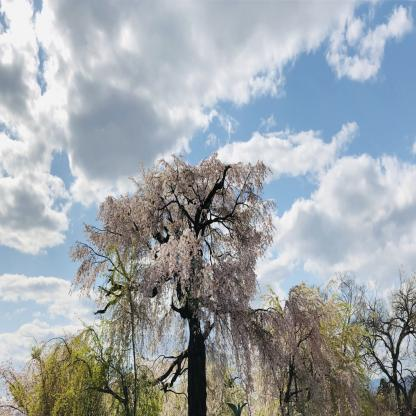ShidareZakura: (64, 149, 281, 392), (241, 280, 360, 416)
